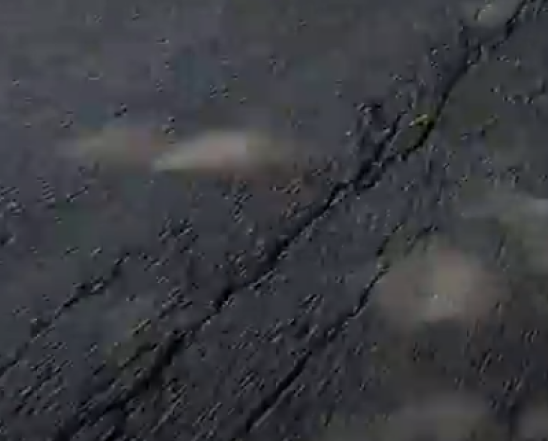Retak Memanjang: (57, 7, 536, 441), (230, 252, 413, 441), (1, 239, 151, 369)
